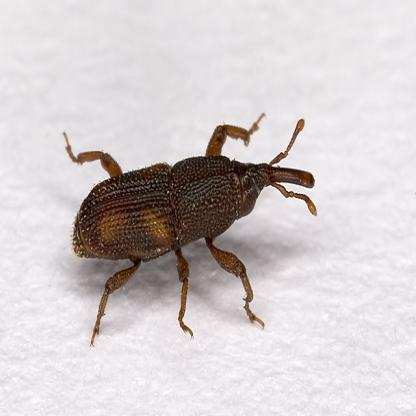rice-bug: (70, 144, 318, 274)
